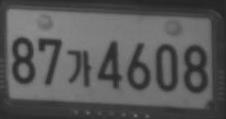0: (153, 42, 178, 91)
4: (96, 40, 122, 89)
6: (126, 42, 150, 89)
7: (37, 37, 62, 85)
8: (182, 44, 208, 93), (11, 35, 35, 84)
가: (66, 49, 91, 86)
